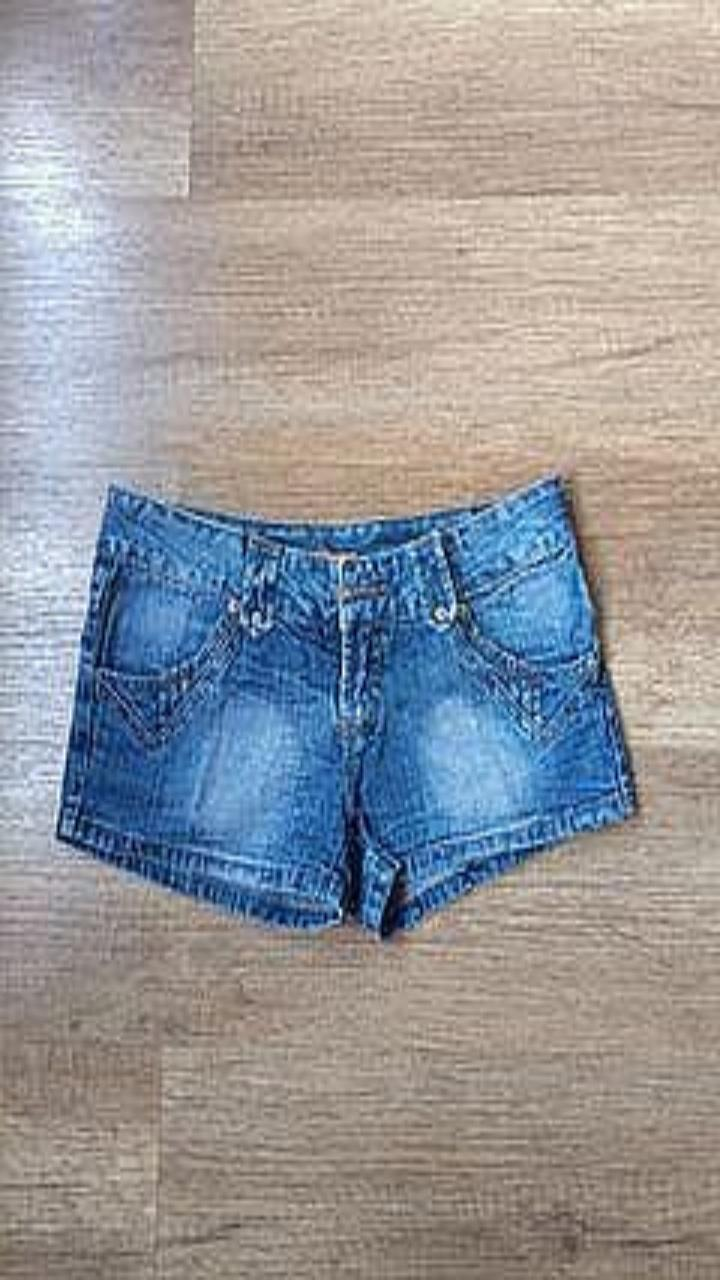Shorts: (57, 475, 636, 935)
